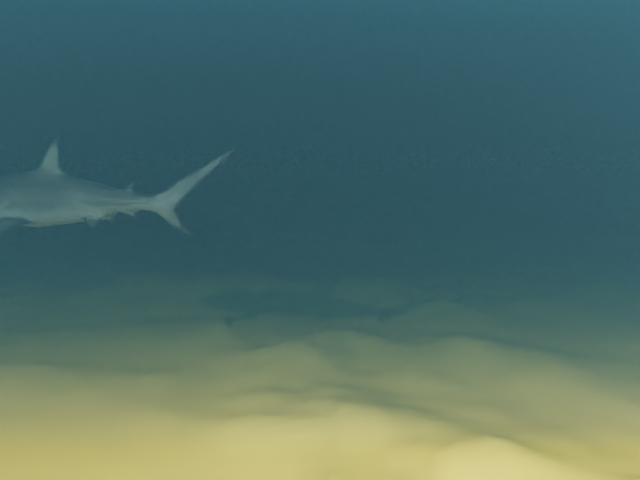Carribean Shark.001: (0, 138, 235, 243)
